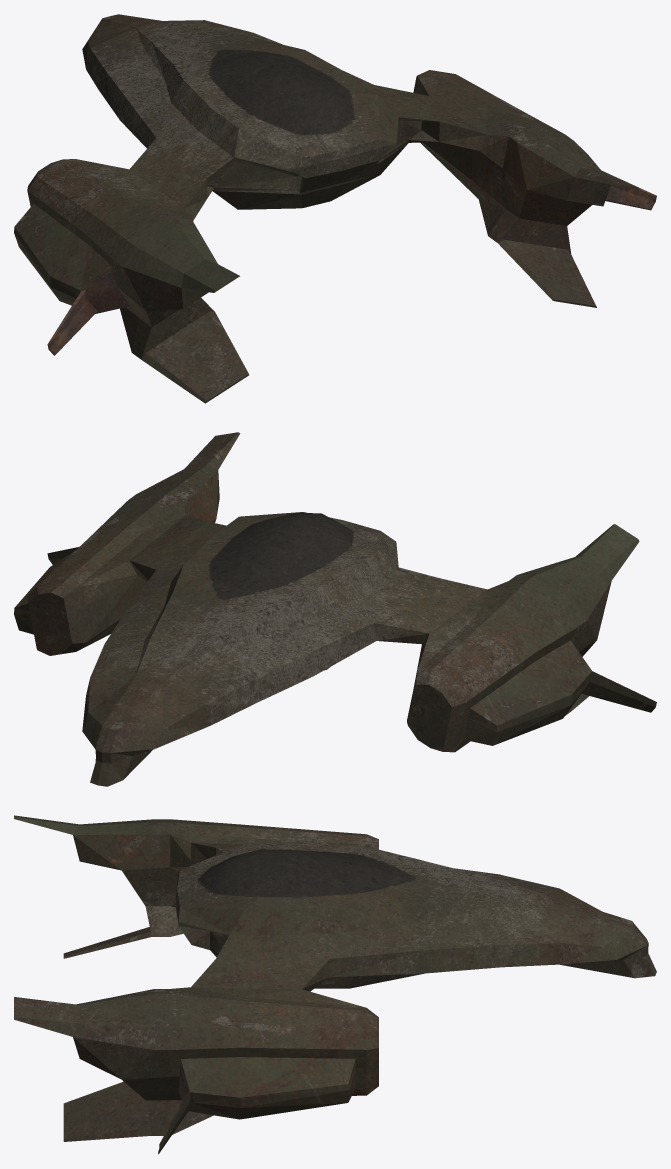
The model's file is Boss_Ship.obj.
3 views of the same model, one above another, from view 1: azimuth 30°, elevation 25°; view 2: azimuth 150°, elevation 25°; view 3: azimuth 270°, elevation 25° (orthographic). The views are drawn at different scales.
Visible parts, largest first — view 1: Boss_Ship:Mesh1; view 2: Boss_Ship:Mesh1; view 3: Boss_Ship:Mesh1.
Boxes of the visible parts, <box> form: Boss_Ship:Mesh1: <box>14,14,656,403</box>; Boss_Ship:Mesh1: <box>14,432,656,786</box>; Boss_Ship:Mesh1: <box>14,815,656,1154</box>.
Bounding box in the file's own units: 18.95 × 5.86 × 17.72.
